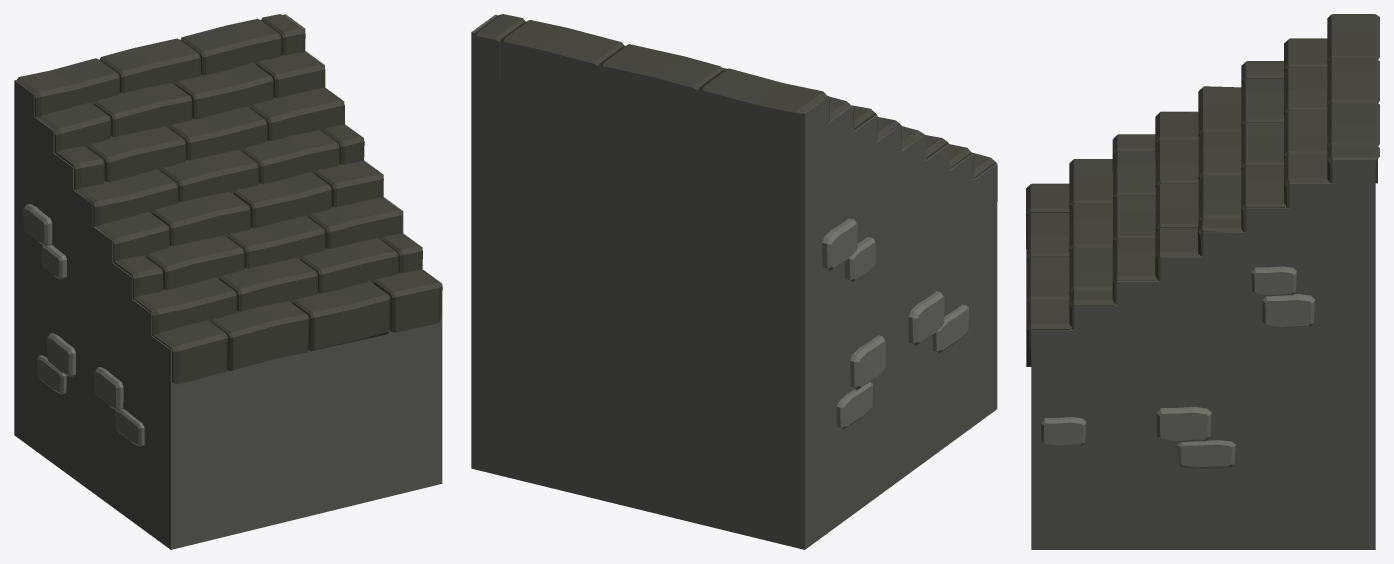
The model's file is stone_steps_high.gltf.
3 views of the same model, side by side, from view 1: azimuth 30°, elevation 25°; view 2: azimuth 150°, elevation 25°; view 3: azimuth 270°, elevation 25° (orthographic). The views are drawn at different scales.
Visible parts, largest first — view 1: Stairs_High; view 2: Stairs_High; view 3: Stairs_High.
Part boxes in pixels (x1,y1,x2,y2): Stairs_High: (14, 14, 442, 549); Stairs_High: (471, 14, 997, 549); Stairs_High: (1026, 14, 1379, 549).
Bounding box in the file's own units: 4.18 × 5.04 × 4.11.
2 materials, 2 textured.
